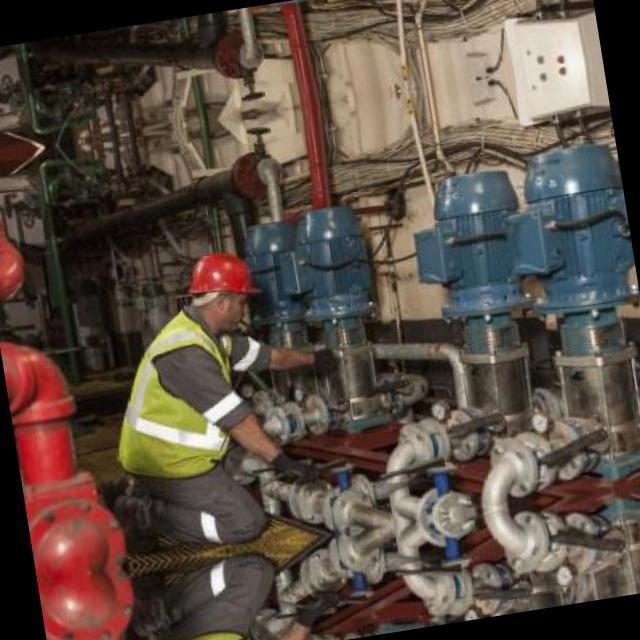helmet: (174, 242, 266, 340)
